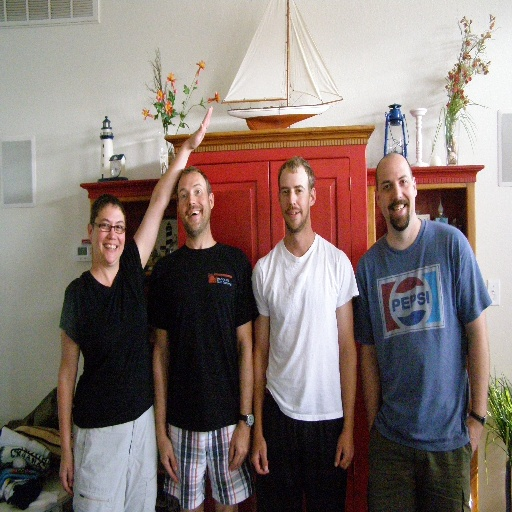hand: (186, 104, 214, 152), (157, 433, 178, 485), (333, 428, 356, 472), (248, 433, 270, 478), (57, 451, 75, 498), (466, 415, 484, 457)
